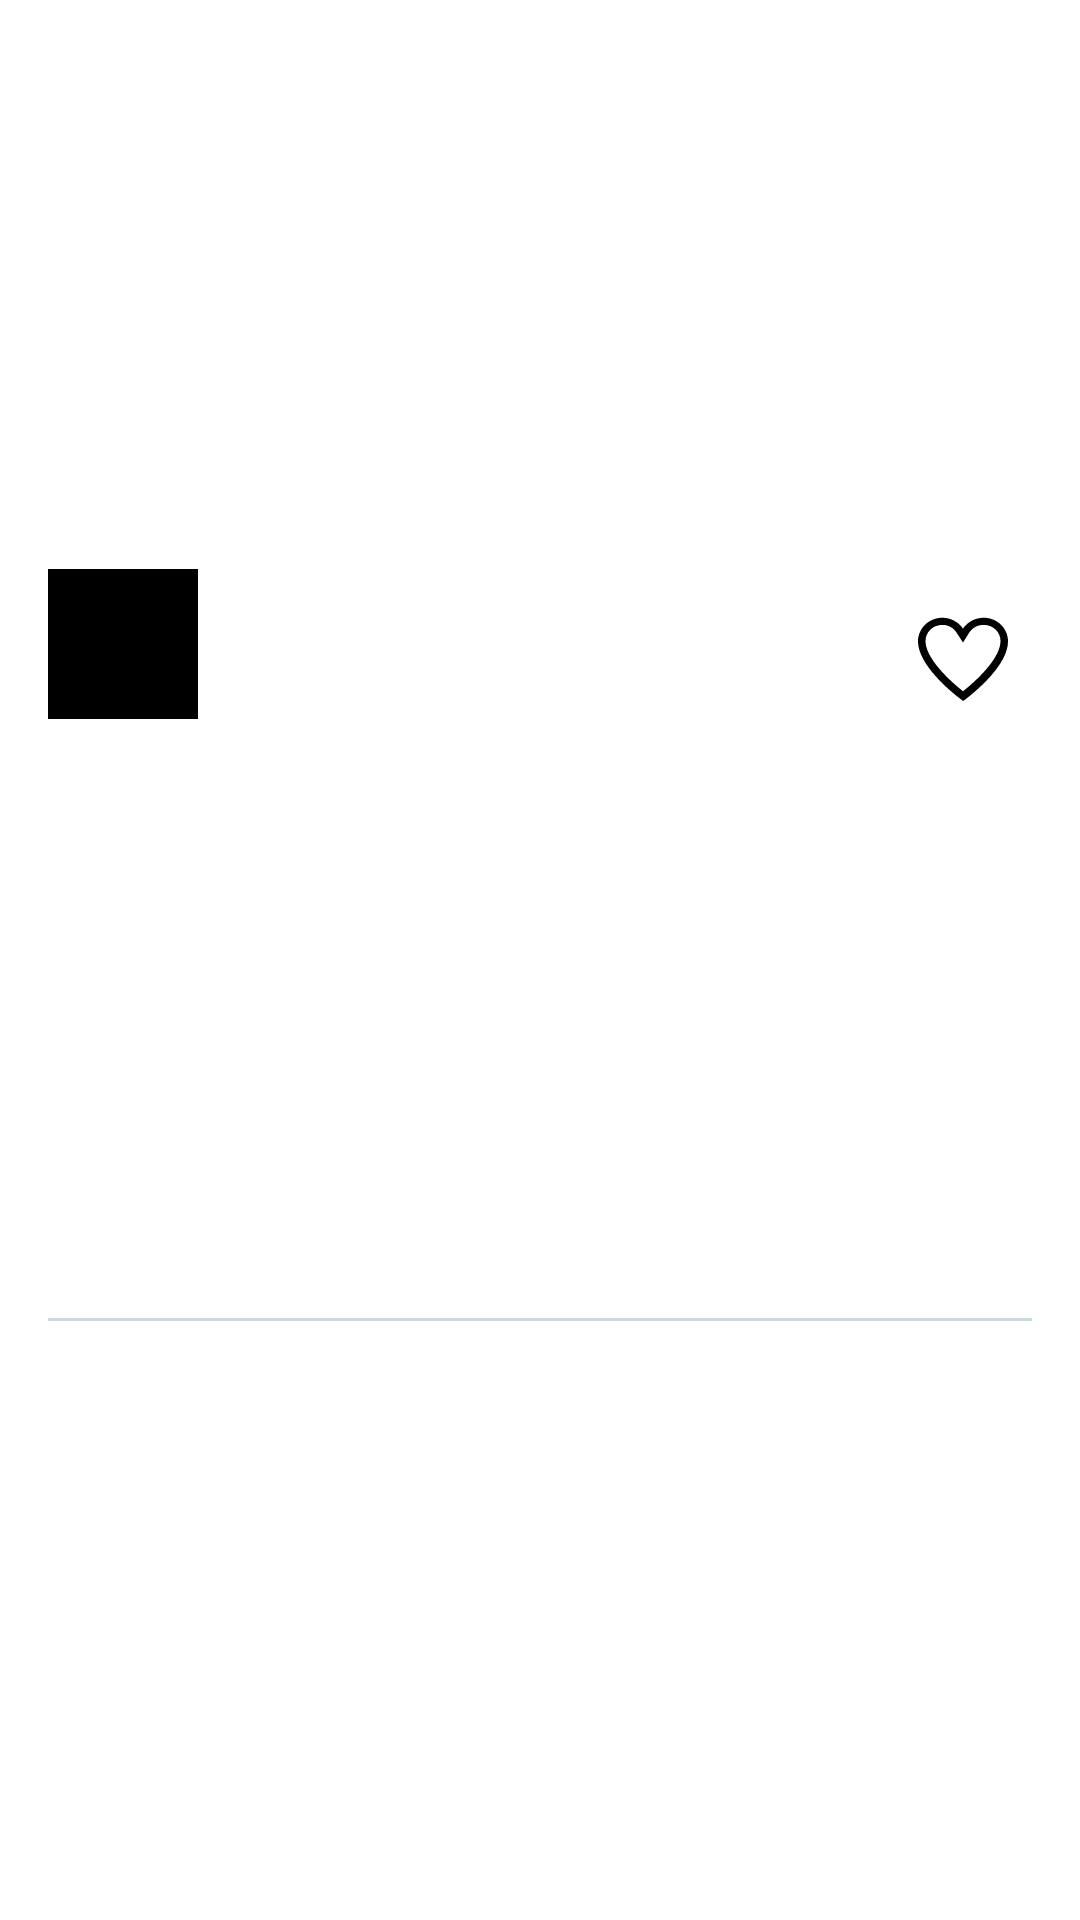

Where to tap for icons on this 1080x1920 app screen, as (x=x, y=y):
favorite: (x=963, y=659)
